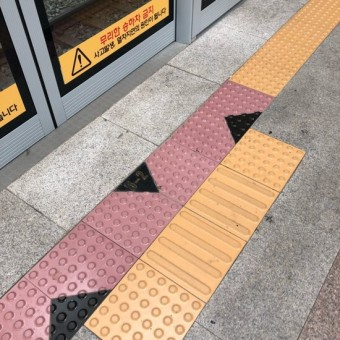guideBlock: (161, 209, 233, 290), (201, 161, 270, 238)
warningBlock: (86, 254, 157, 338), (56, 239, 130, 310), (149, 143, 198, 192), (241, 136, 292, 179), (107, 192, 152, 240), (191, 111, 236, 150), (218, 85, 267, 116), (248, 61, 286, 93), (269, 34, 300, 68)
